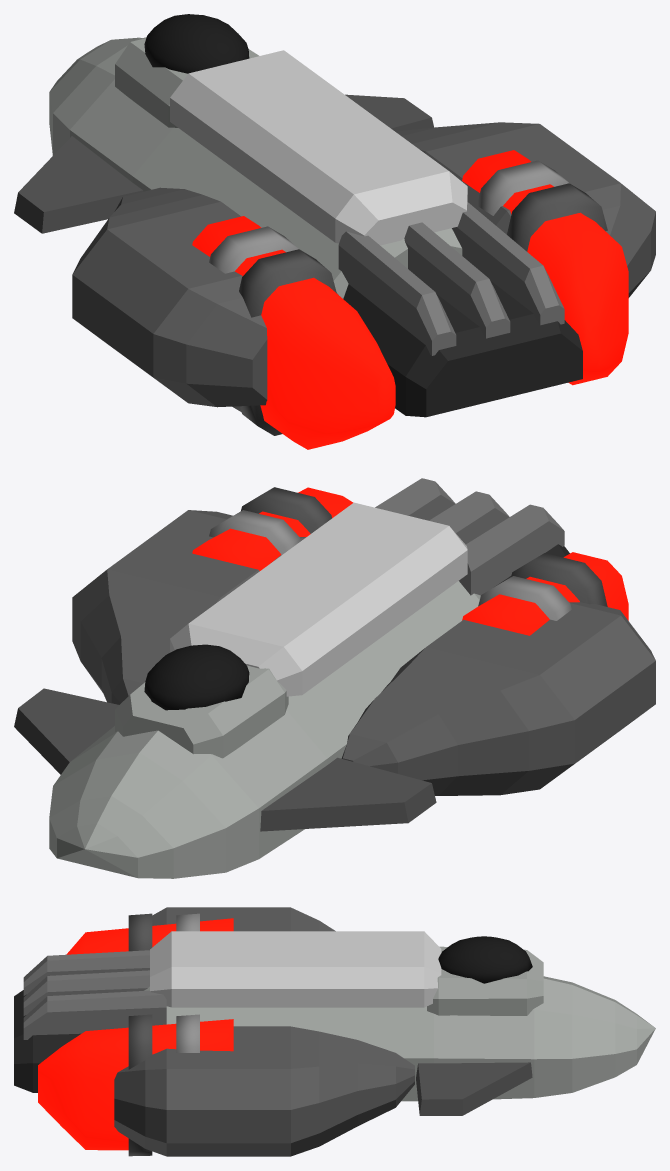
File: ship-silver-ship.glb
3 views of the same model, one above another, from view 1: azimuth 30°, elevation 25°; view 2: azimuth 150°, elevation 25°; view 3: azimuth 270°, elevation 25° (orthographic). The views are drawn at different scales.
Visible parts, largest first — view 1: ship-silver-ship; view 2: ship-silver-ship; view 3: ship-silver-ship.
Boxes of the visible parts, x1,y1,x2,y2 form: ship-silver-ship: (14,14,655,449); ship-silver-ship: (14,478,655,878); ship-silver-ship: (14,907,655,1156).
Bounding box in the file's own units: 1.55 × 0.6074 × 2.24.
